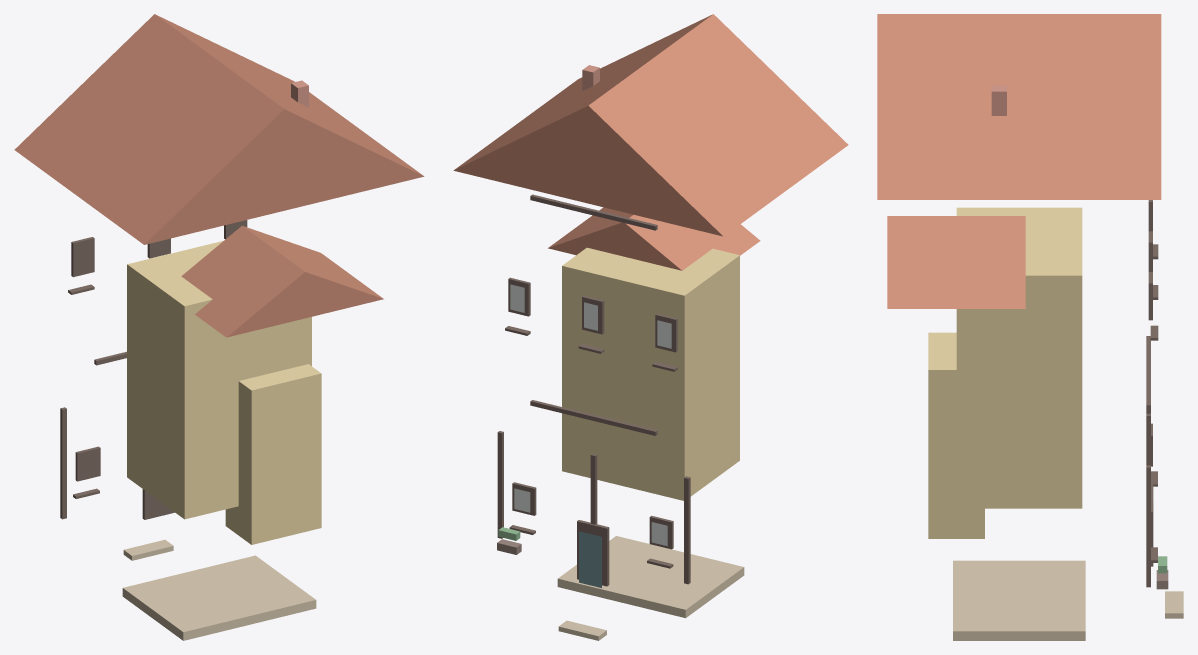
File: ravnbro-home-01.glb
3 views of the same model, side by side, from view 1: azimuth 30°, elevation 25°; view 2: azimuth 150°, elevation 25°; view 3: azimuth 270°, elevation 25° (orthographic). The views are drawn at different scales.
Visible parts, largest first — view 1: roof, body, wing, wing_roof, plinth, uwf_1_-0.82, wf_-0.77, up_-1.04, step; view 2: roof, body, plinth, wing_roof, door, beam_1, beam_2, door_frame, up_-1.04, up_1.04, step, up_0.00; view 3: roof, body, wing_roof, plinth, wing, up_1.04, step, chimney.
Boxes of the visible parts, box(x1,y1,x2,y2) form: roof: box(14, 14, 424, 244); body: box(127, 240, 311, 519); wing: box(225, 364, 321, 544); wing_roof: box(181, 225, 383, 337); plinth: box(122, 555, 316, 640); uwf_1_-0.82: box(71, 237, 94, 277); wf_-0.77: box(75, 446, 100, 481); up_-1.04: box(60, 407, 66, 519); step: box(123, 539, 173, 560); roof: box(453, 14, 848, 236); body: box(562, 247, 739, 500); plinth: box(557, 536, 744, 618); wing_roof: box(548, 207, 760, 270); door: box(579, 531, 601, 587); beam_1: box(530, 400, 657, 435); beam_2: box(530, 194, 657, 230); door_frame: box(577, 520, 609, 586); up_-1.04: box(684, 476, 690, 584); up_1.04: box(497, 431, 503, 538); step: box(558, 620, 606, 640); up_0.00: box(590, 453, 597, 524); roof: box(877, 14, 1161, 199); body: box(956, 207, 1082, 508); wing_roof: box(887, 216, 1025, 308); plinth: box(953, 560, 1085, 640); wing: box(928, 332, 984, 538); up_1.04: box(1146, 465, 1150, 587); step: box(1165, 591, 1183, 618); chimney: box(991, 85, 1006, 115).
Size of the model in its own units: 3.03 by 5.61 by 2.62.
